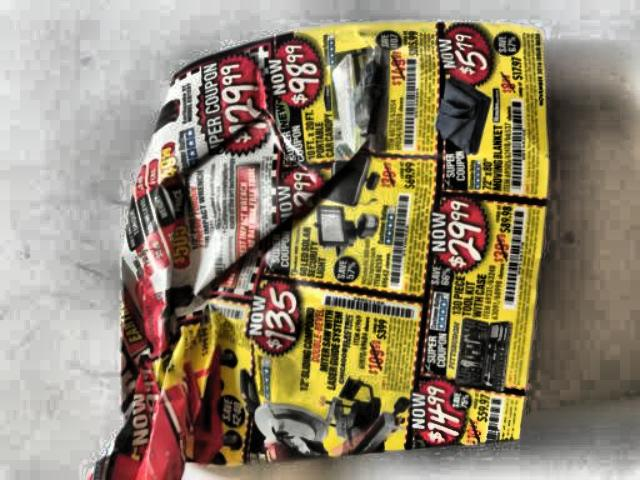Paper: (79, 19, 551, 480)
